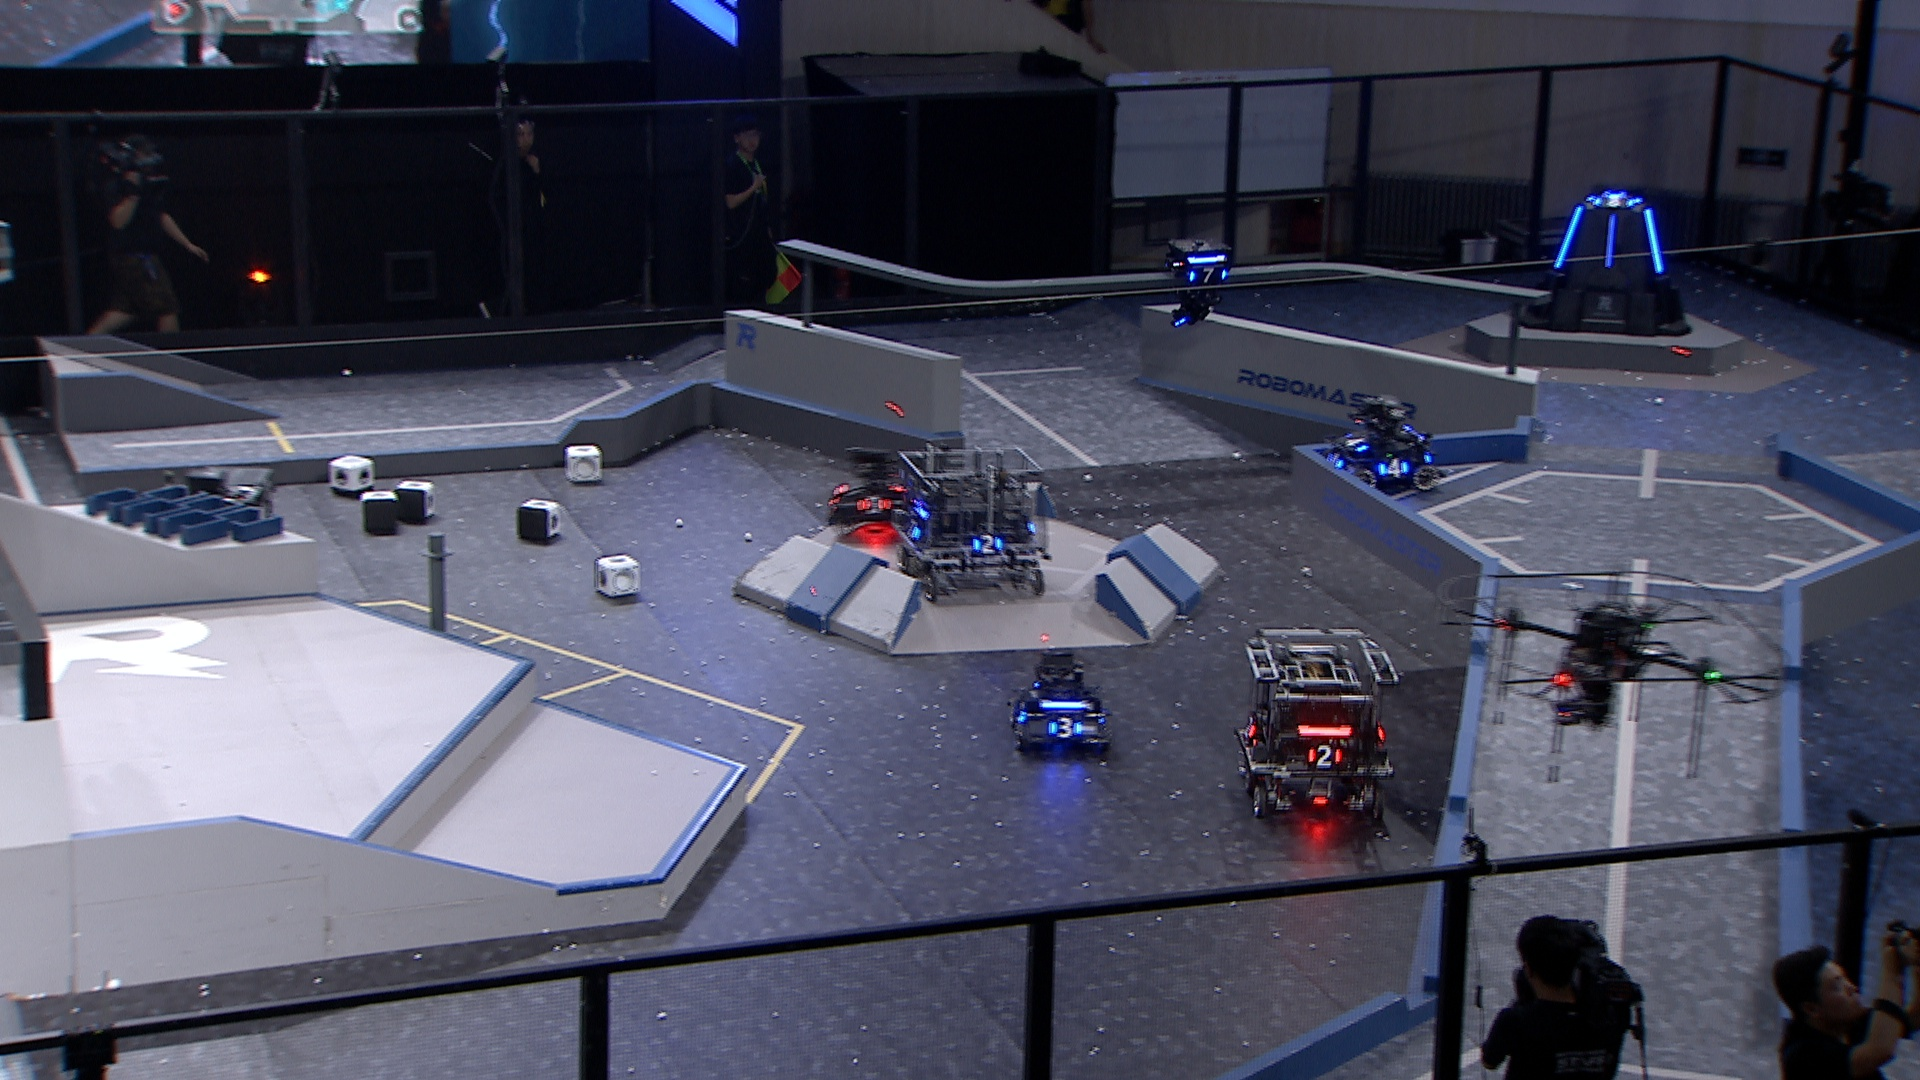armor: (1551, 204, 1584, 272), (1638, 207, 1669, 277), (1600, 211, 1618, 272), (1304, 740, 1346, 766), (1044, 716, 1084, 740), (1594, 191, 1640, 210), (852, 493, 891, 514), (972, 533, 1006, 556), (1375, 458, 1411, 479), (1185, 266, 1229, 284), (1240, 711, 1261, 742), (1342, 431, 1370, 455), (1011, 695, 1033, 725), (901, 517, 922, 542), (1327, 450, 1348, 471)
base: (1516, 186, 1697, 342)
car: (1234, 621, 1400, 822), (891, 438, 1054, 605), (1321, 394, 1447, 495), (1006, 644, 1120, 752), (822, 446, 913, 529)
watcher: (1160, 237, 1234, 324)
